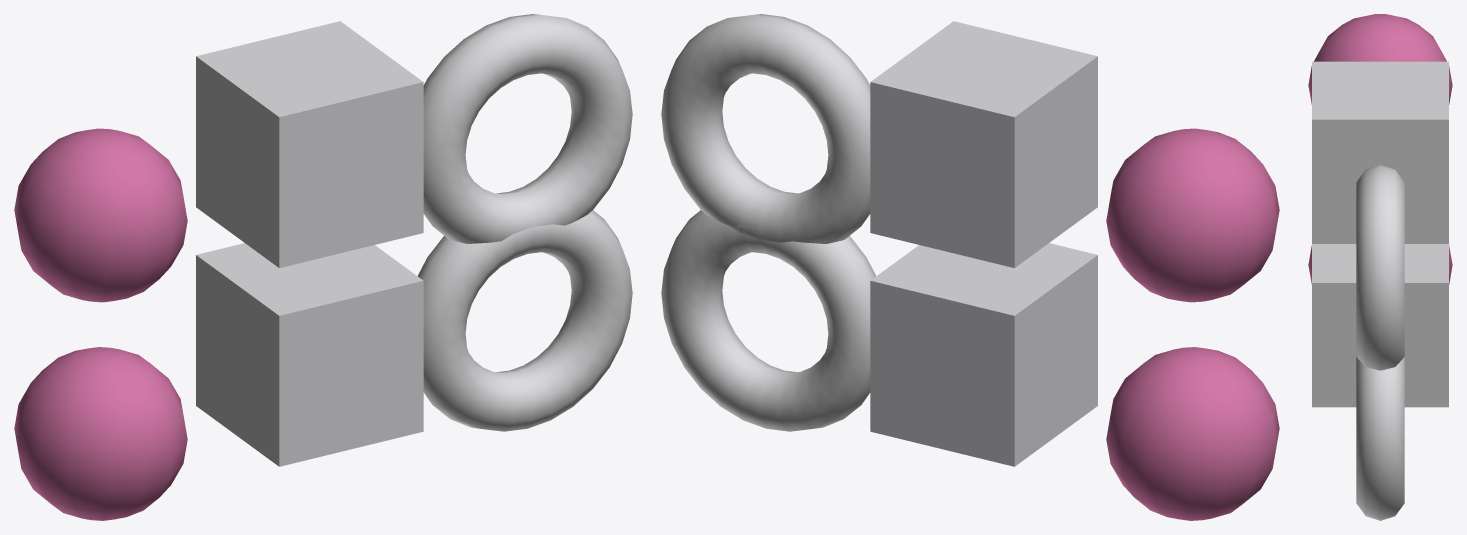
Rendered from VM-DAM-SH40856443.glb.
3 views of the same model, side by side, from view 1: azimuth 30°, elevation 25°; view 2: azimuth 150°, elevation 25°; view 3: azimuth 270°, elevation 25° (orthographic). The views are drawn at different scales.
Parts seen in each view (by area): view 1: Cuentas de Chile en Forma Hueca; view 2: Cuentas de Chile en Forma Hueca; view 3: Cuentas de Chile en Forma Hueca.
Boxes of the visible parts, x1,y1,x2,y2 form: Cuentas de Chile en Forma Hueca: (14,14,632,520); Cuentas de Chile en Forma Hueca: (661,14,1279,520); Cuentas de Chile en Forma Hueca: (1308,14,1452,520).
Bounding box in the file's own units: 0.1522 × 0.0989 × 0.0384.
